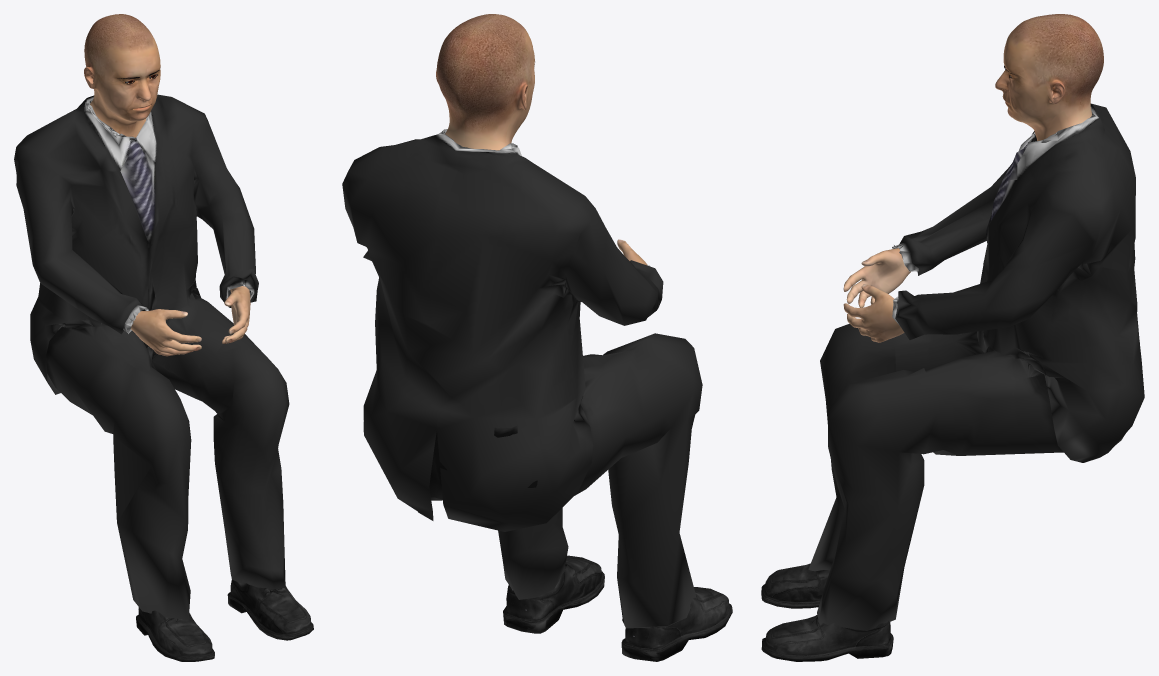
The model's file is detail_receptionist.glb.
3 views of the same model, side by side, from view 1: azimuth 30°, elevation 25°; view 2: azimuth 150°, elevation 25°; view 3: azimuth 270°, elevation 25° (orthographic). The views are drawn at different scales.
Parts seen in each view (by area): view 1: male_elegantsuit01, Ellis | anatomical body, shoes04; view 2: male_elegantsuit01, Ellis | anatomical body, shoes04; view 3: male_elegantsuit01, Ellis | anatomical body, shoes04.
Boxes of the visible parts, x1,y1,x2,y2 form: male_elegantsuit01: (14, 94, 289, 619); Ellis | anatomical body: (84, 14, 250, 356); shoes04: (136, 579, 313, 661); male_elegantsuit01: (342, 129, 702, 628); Ellis | anatomical body: (436, 14, 647, 265); shoes04: (503, 555, 732, 661); male_elegantsuit01: (808, 103, 1144, 630); Ellis | anatomical body: (843, 14, 1103, 342); shoes04: (761, 563, 893, 661).
Bounding box in the file's own units: 0.5663 × 1.36 × 0.7784.
Materials: 7 (7 with a texture image).
